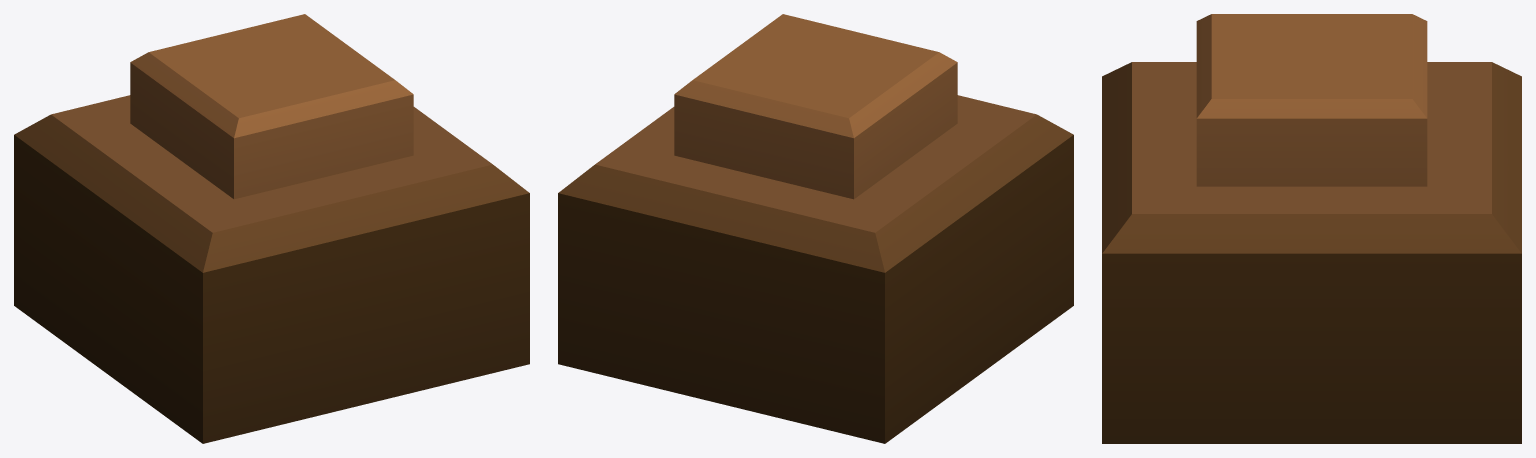
File: oil-refinery.glb
3 views of the same model, side by side, from view 1: azimuth 30°, elevation 25°; view 2: azimuth 150°, elevation 25°; view 3: azimuth 270°, elevation 25° (orthographic). The views are drawn at different scales.
Parts seen in each view (by area): view 1: oil-refinery; view 2: oil-refinery; view 3: oil-refinery.
Part boxes in pixels (x1,y1,x2,y2): oil-refinery: (14, 14, 529, 443); oil-refinery: (558, 14, 1073, 443); oil-refinery: (1102, 14, 1521, 443).
Size of the model in its own units: 0.28 by 0.22 by 0.28.
